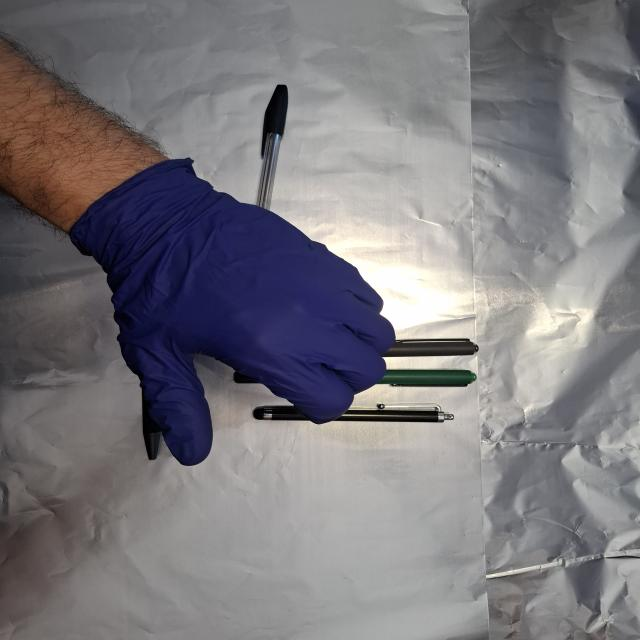glove_on: (68, 156, 400, 468)
